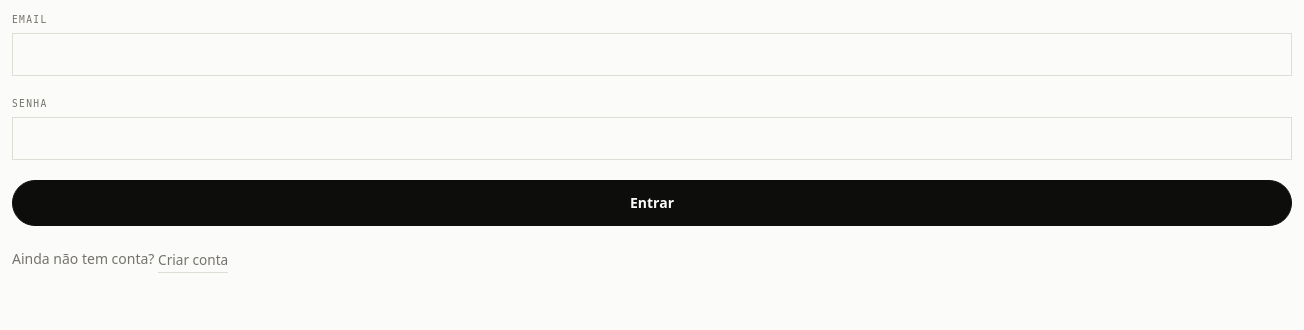
Scenario: LoginForm › mostra erro traduzido quando as credenciais são inválidas
Type "dev@example.com" into the field labelled "Email".
click(652, 55); type("dev@example.com")  # box [12,33,1292,76]
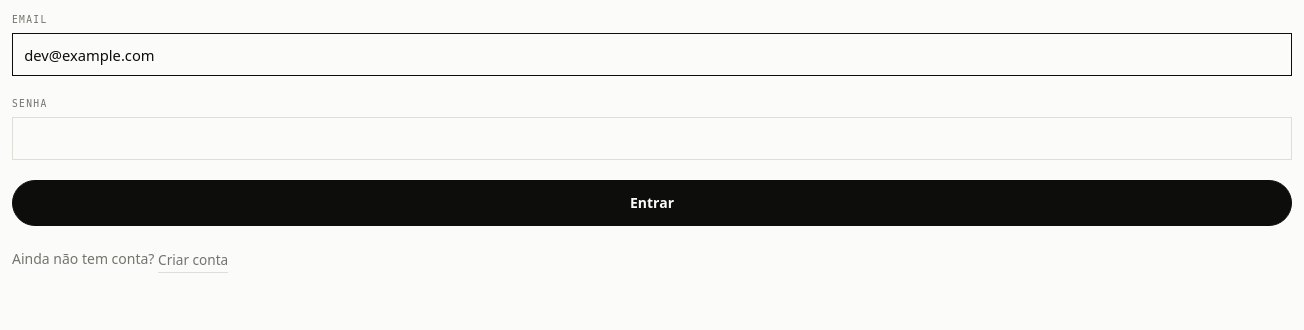
Type "senha-secreta-1" into the password field labelled "Senha".
click(652, 139); type("senha-secreta-1")  # box [12,117,1292,160]
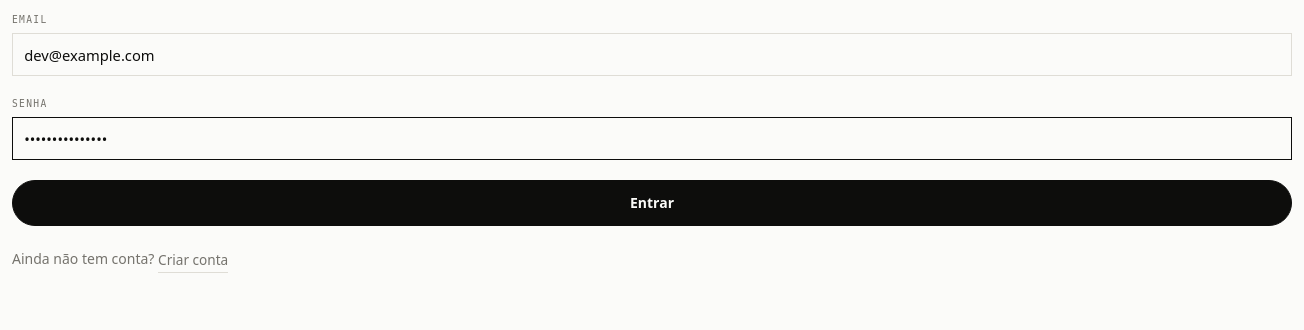
Click the button "Entrar".
click(652, 203)  # box [12,180,1292,226]
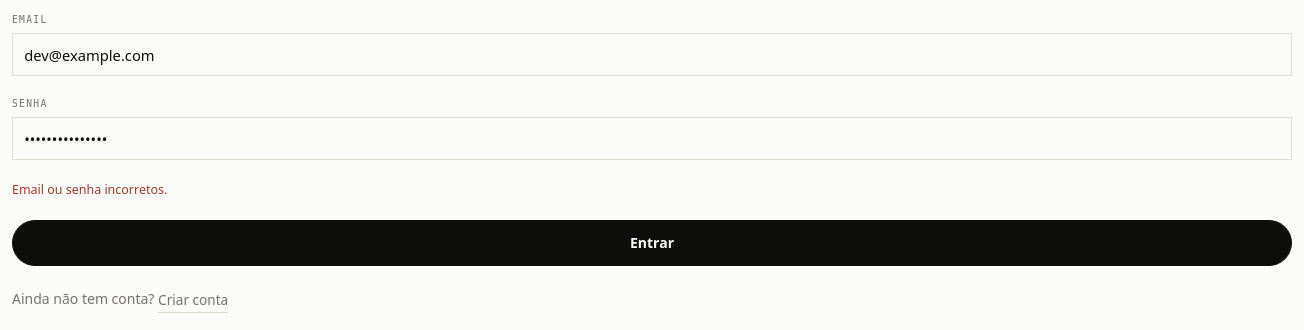
Expected: the text "Email ou senha incorretos." is shown, [12,181,167,198]
